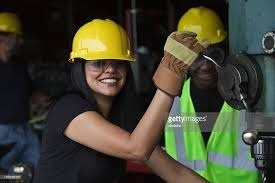helmet: (68, 17, 140, 64), (173, 6, 233, 49)
person with partial safety: (57, 14, 153, 167), (169, 5, 242, 88)
safety vest: (162, 82, 263, 183)
